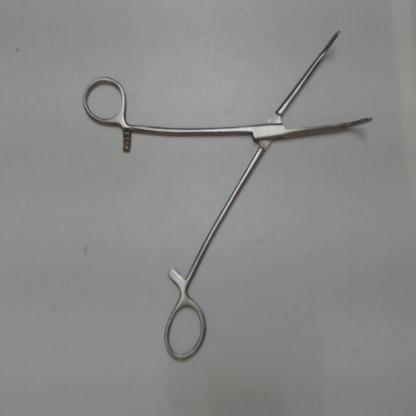Lahey Forceps: (72, 19, 381, 372)
